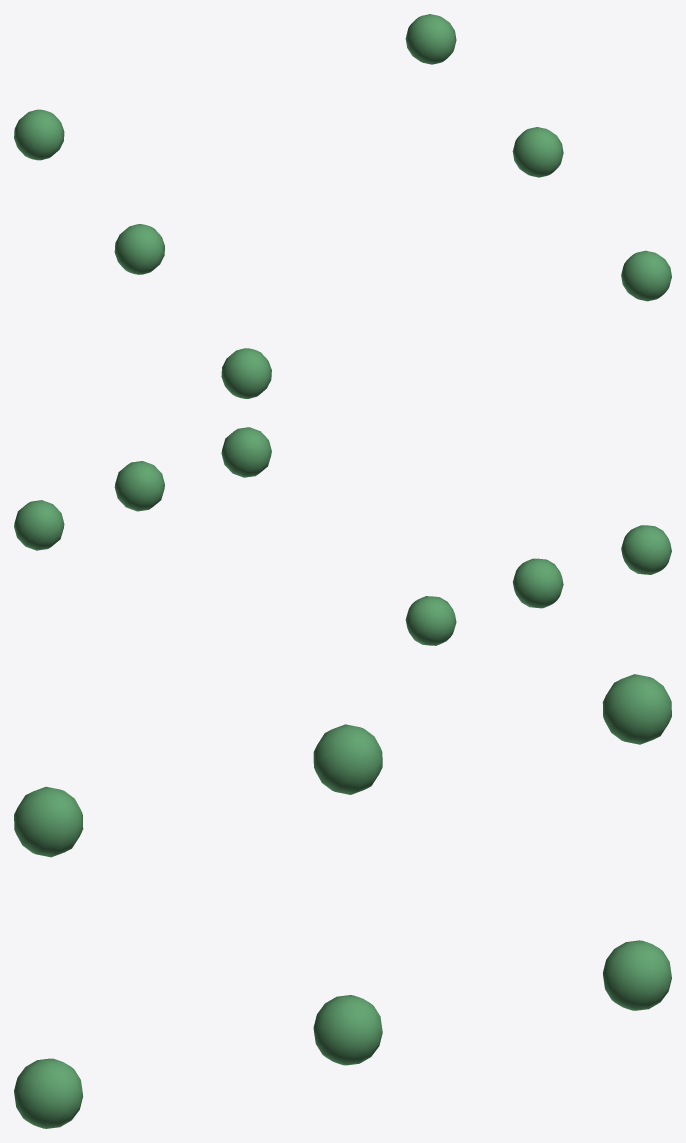
The picture shows the model from 3 angles, top to bottom: view 1: azimuth 30°, elevation 25°; view 2: azimuth 150°, elevation 25°; view 3: azimuth 270°, elevation 25°; orthographic projection. The views are drawn at different scales.
Parts seen in each view (by area): view 1: 颈部气管旁淋巴结; view 2: 颈部气管旁淋巴结; view 3: 颈部气管旁淋巴结.
Boxes of the visible parts, x1,y1,x2,y2 form: 颈部气管旁淋巴结: [14, 14, 671, 398]; 颈部气管旁淋巴结: [14, 427, 671, 645]; 颈部气管旁淋巴结: [14, 674, 671, 1128].
Bounding box in the file's own units: 0.0385 × 0.0107 × 0.0355.
